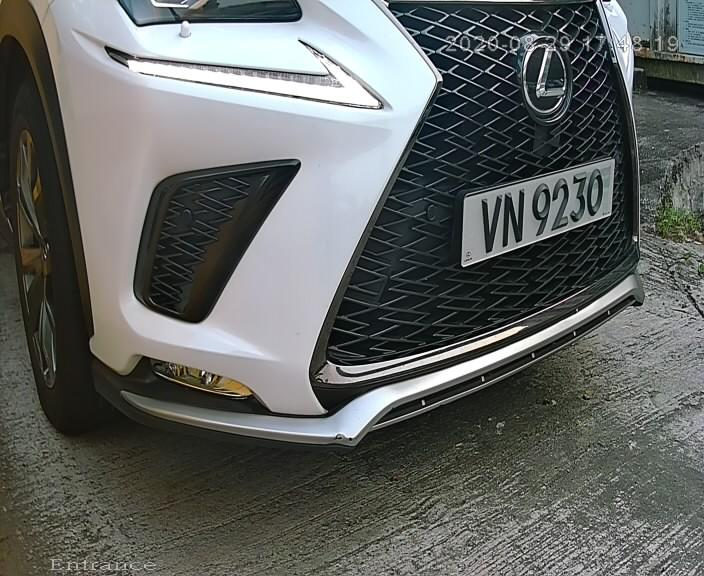License Plate: (456, 152, 620, 278)
